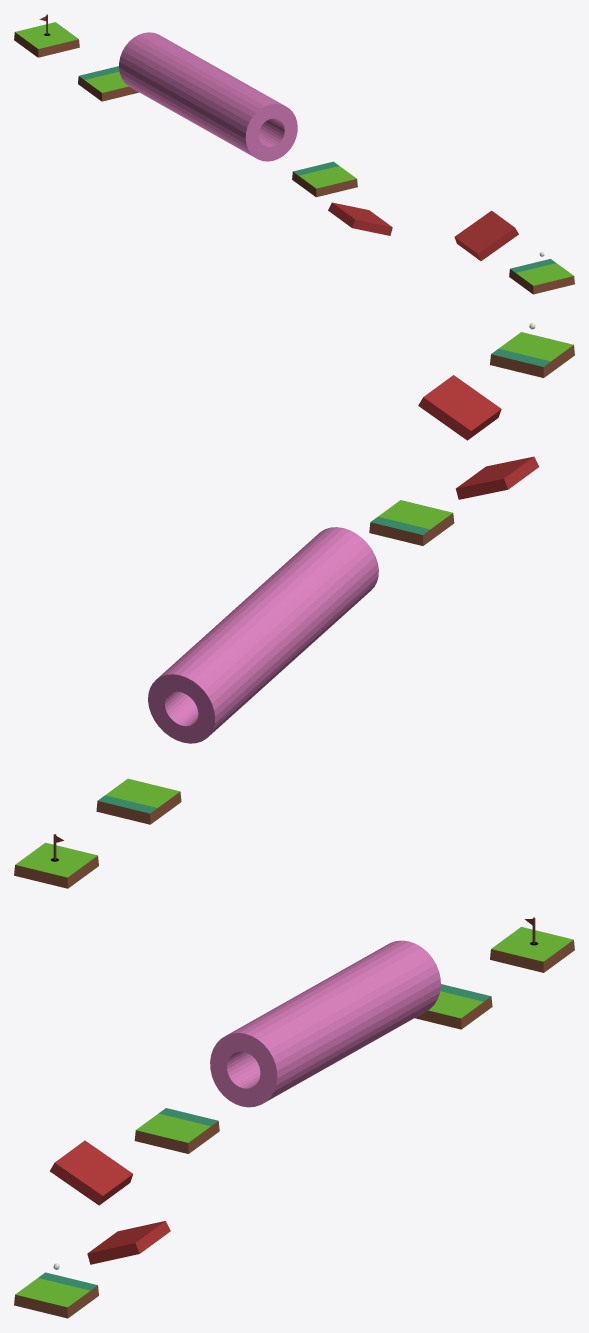
The model's file is level9.glb.
3 renders of one model, top to bottom at view 1: azimuth 30°, elevation 25°; view 2: azimuth 150°, elevation 25°; view 3: azimuth 330°, elevation 25°, orthographic. The views are drawn at different scales.
Visible parts, largest first — view 1: Cylinder, bouncepad, basic-moveable.002, basic-moveable.001, basic-fixed.002, basic-moveable.003, bouncepad.001; view 2: Cylinder, bouncepad, basic-moveable.003, basic-moveable.001, basic-moveable.002, basic-fixed.002, bouncepad.001; view 3: Cylinder, bouncepad.001, basic-moveable.001, basic-moveable.002, basic-fixed.002, basic-moveable.003, bouncepad.
Boxes of the visible parts, <box> form: Cylinder: <box>119,32,297,161</box>; bouncepad: <box>454,210,518,260</box>; basic-moveable.002: <box>292,161,357,197</box>; basic-moveable.001: <box>509,259,574,294</box>; basic-fixed.002: <box>14,22,79,57</box>; basic-moveable.003: <box>78,66,138,101</box>; bouncepad.001: <box>328,202,392,235</box>; Cylinder: <box>148,527,378,743</box>; bouncepad: <box>418,375,501,440</box>; basic-moveable.003: <box>96,778,181,824</box>; basic-moveable.001: <box>490,332,574,377</box>; basic-moveable.002: <box>369,500,454,545</box>; basic-fixed.002: <box>14,842,98,888</box>; bouncepad.001: <box>456,456,539,499</box>; Cylinder: <box>210,940,440,1107</box>; bouncepad.001: <box>50,1140,132,1205</box>; basic-moveable.001: <box>14,1272,98,1318</box>; basic-moveable.002: <box>134,1108,219,1153</box>; basic-fixed.002: <box>490,927,574,972</box>; basic-moveable.003: <box>415,984,492,1029</box>; bouncepad: <box>87,1221,170,1264</box>.
Bounding box in the file's own units: 5.68 × 4.68 × 37.8.
Materials: 5 (5 with a texture image).
